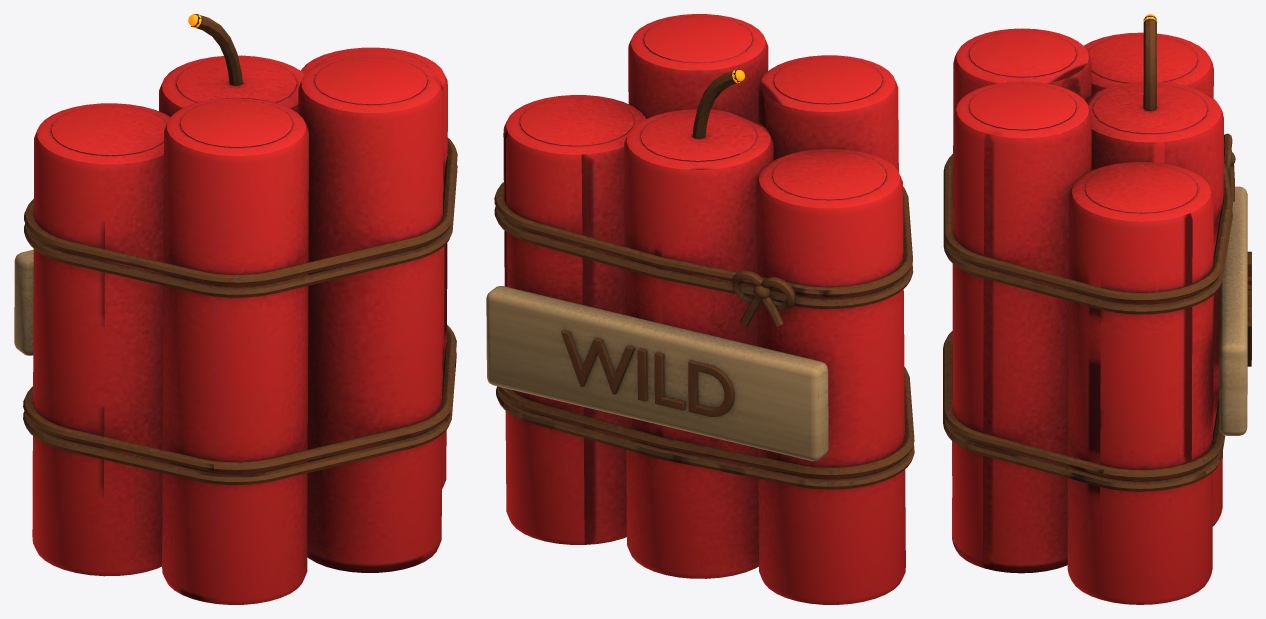
3 renders of one model, left to right at view 1: azimuth 30°, elevation 25°; view 2: azimuth 150°, elevation 25°; view 3: azimuth 270°, elevation 25°, orthographic. The views are drawn at different scales.
Parts seen in each view (by area): view 1: Crimson_red_paper, Brown_binding_cord, Warm_wooden_plaque; view 2: Crimson_red_paper, Warm_wooden_plaque, Brown_binding_cord; view 3: Crimson_red_paper, Brown_binding_cord, Warm_wooden_plaque.
Part boxes in pixels (bbox=[...]): Crimson_red_paper: bbox=[32, 47, 447, 604]; Brown_binding_cord: bbox=[23, 14, 457, 484]; Warm_wooden_plaque: bbox=[14, 249, 33, 355]; Crimson_red_paper: bbox=[503, 14, 905, 604]; Warm_wooden_plaque: bbox=[486, 286, 828, 461]; Brown_binding_cord: bbox=[494, 69, 914, 489]; Crimson_red_paper: bbox=[952, 28, 1223, 604]; Brown_binding_cord: bbox=[943, 15, 1251, 491]; Warm_wooden_plaque: bbox=[1219, 186, 1247, 435].
Size of the model in its own units: 0.6739 by 0.7962 by 0.4601.
4 materials, 3 textured.
